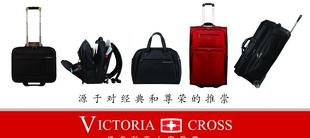luggage: (233, 0, 303, 88), (233, 8, 303, 88), (9, 0, 58, 88), (186, 0, 235, 88)
